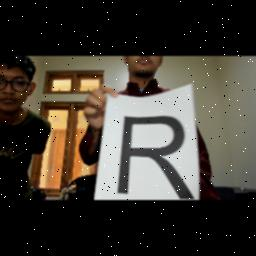r: (112, 116, 210, 200)
